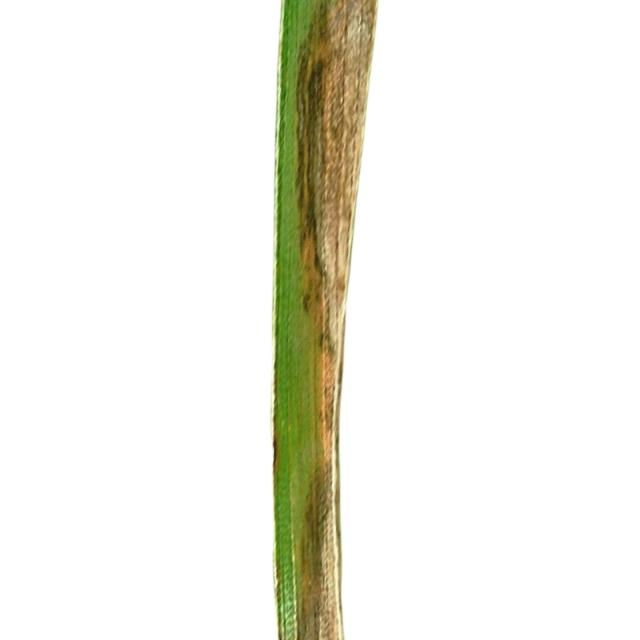Leaf scald: (223, 0, 472, 640)
